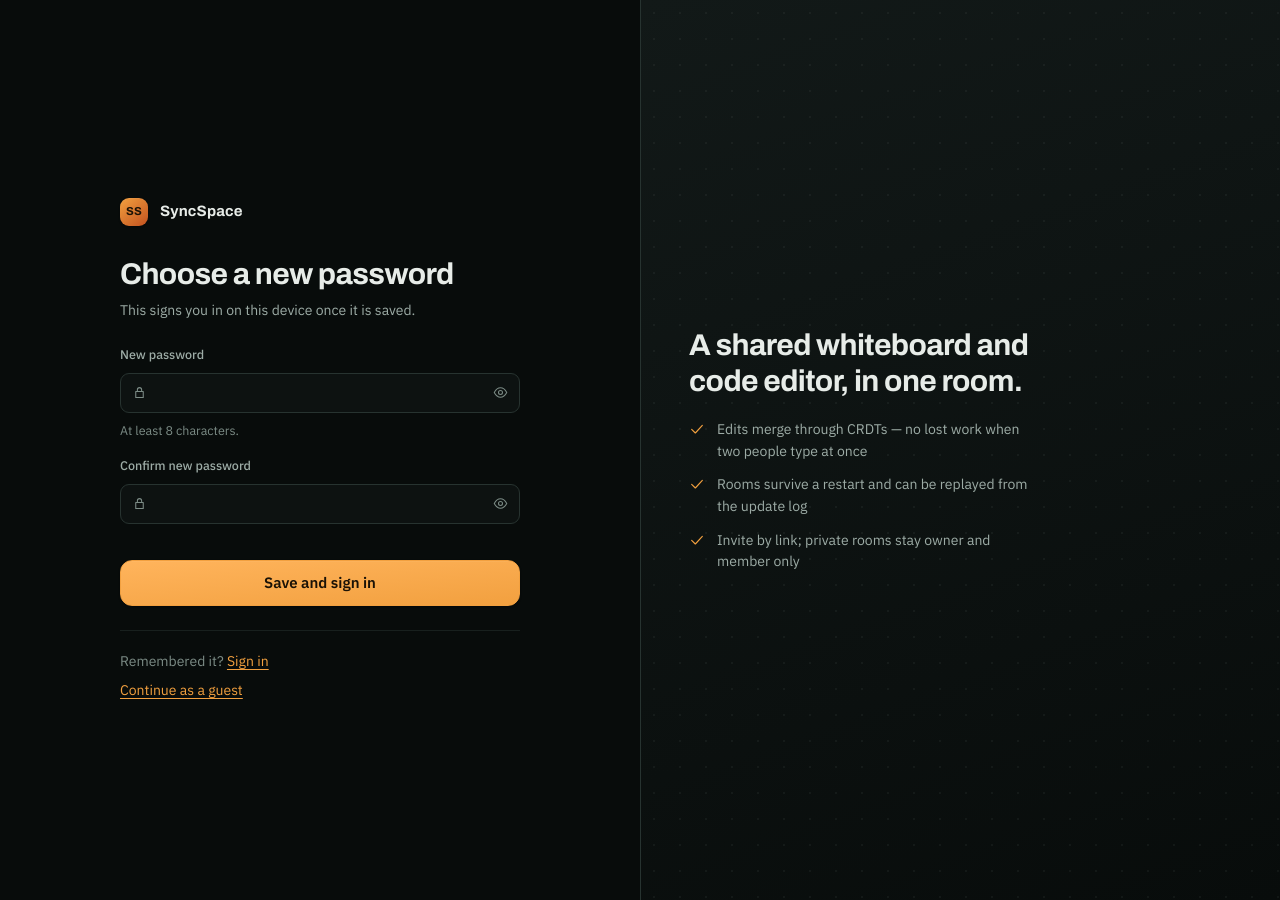
Test: ResetPassword › refuses to submit when the two boxes disagree
In the password field labelled "New password": coordinates (320, 393) [120,373,520,413], type "an-entirely-new-passphrase"
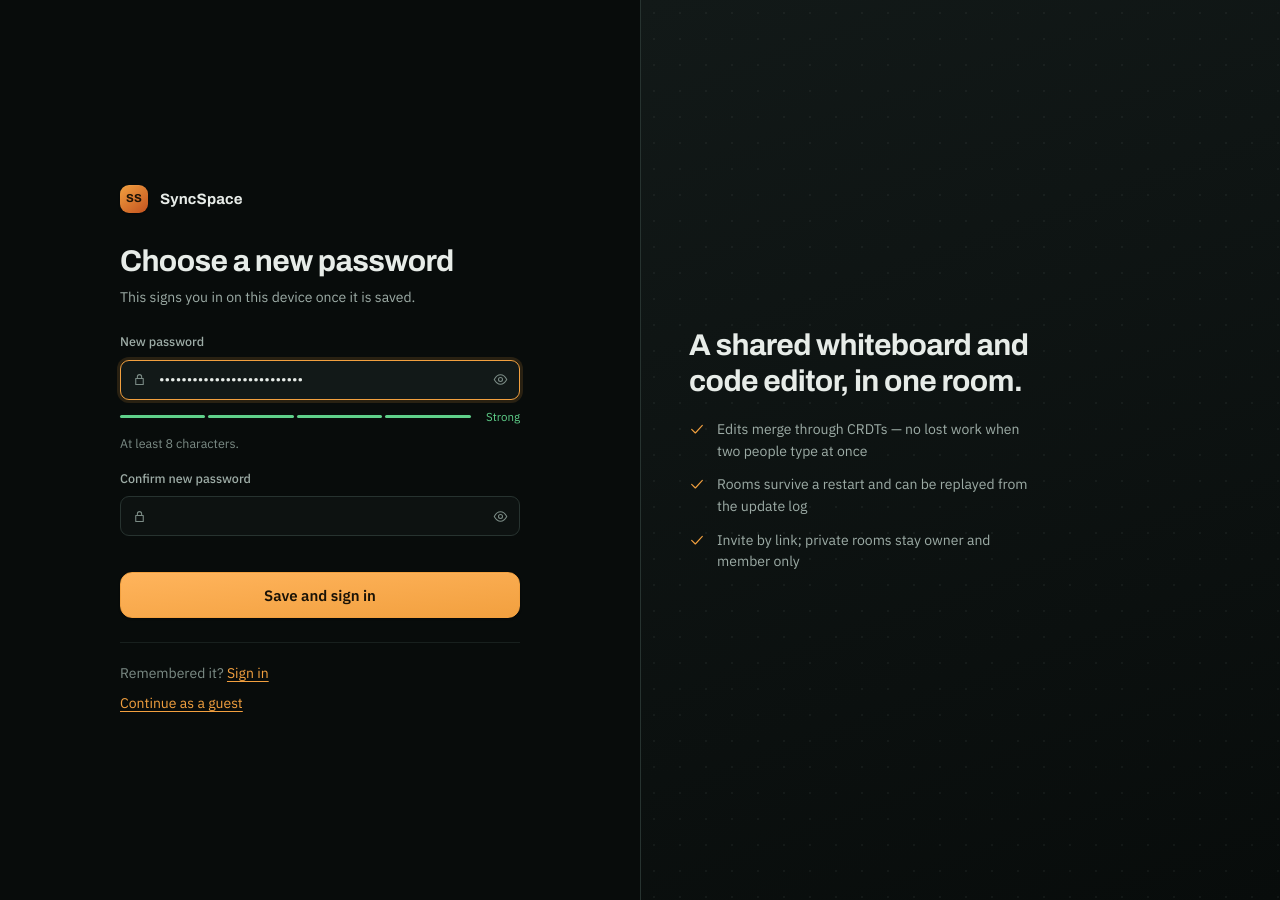
In the password field labelled "Confirm new password": coordinates (320, 516) [120,496,520,536], type "a-different-passphrase"
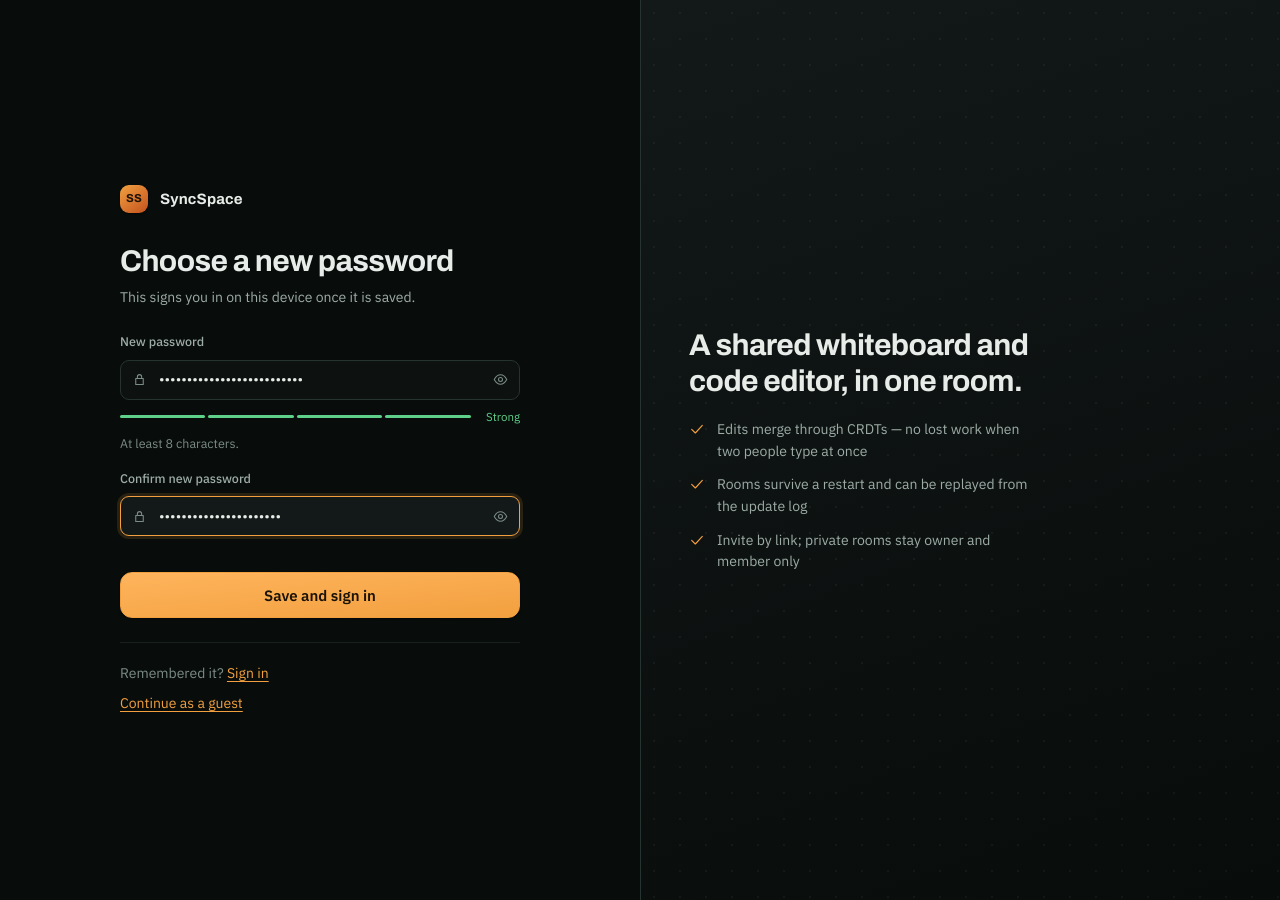
Click the button "Save and sign in": coordinates (320, 595) [120,572,520,618]
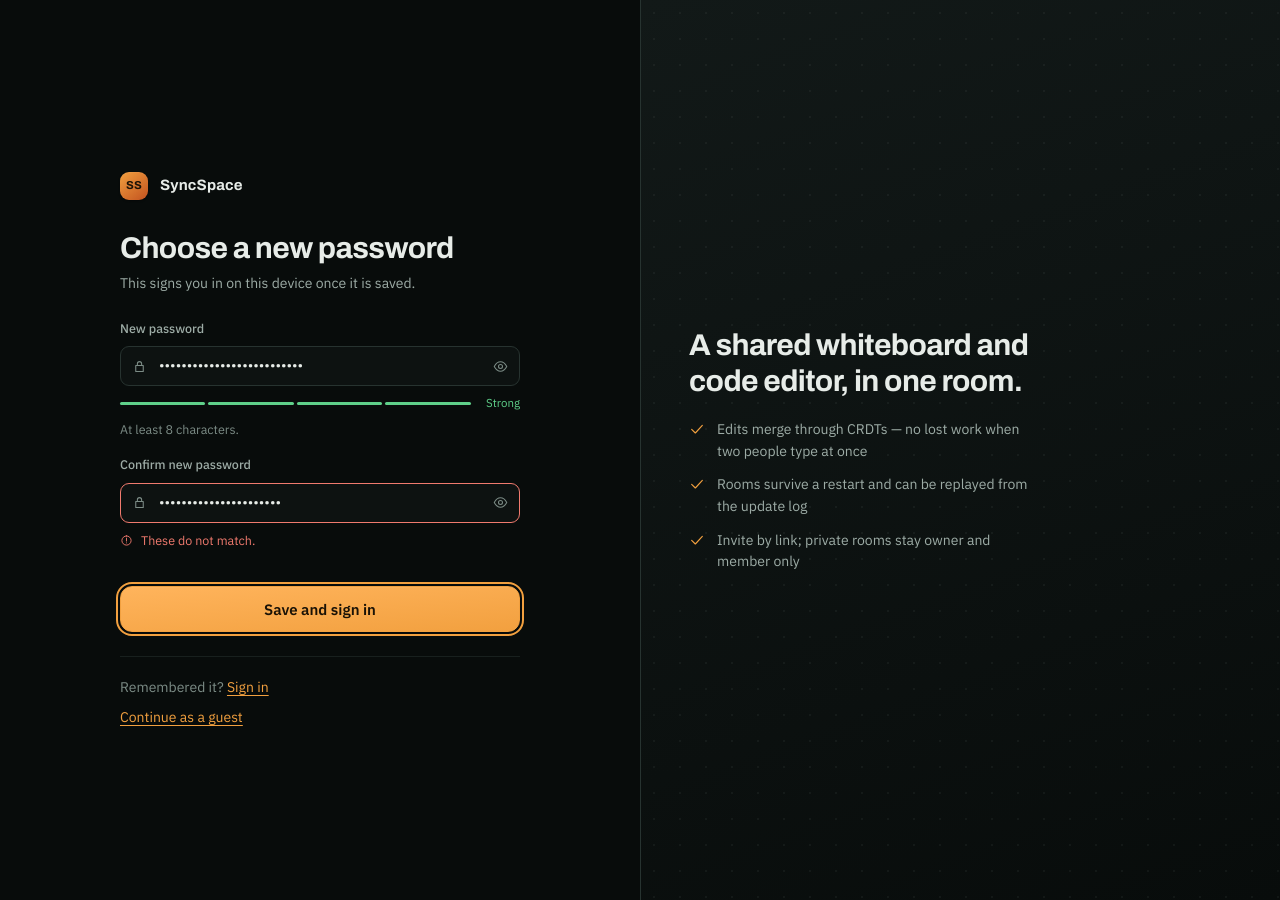
Result: the text "These do not match." is shown at [120,532,255,548]
